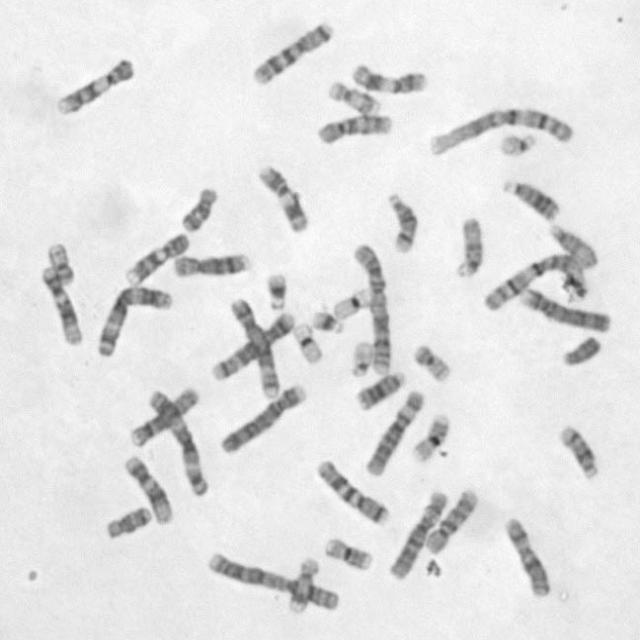A1: (426, 103, 574, 157), (479, 249, 592, 314)
A2: (203, 549, 343, 612), (348, 237, 394, 376)
A3: (144, 384, 210, 497), (92, 280, 175, 358)
B4: (216, 379, 309, 455), (518, 282, 614, 335)
B5: (208, 307, 298, 382), (225, 294, 282, 399)
C10: (423, 484, 481, 555), (312, 109, 394, 148)
C11: (253, 159, 312, 234), (348, 60, 428, 96)
C12: (119, 450, 175, 526), (36, 262, 84, 346)
C6: (362, 385, 426, 477), (386, 488, 448, 580)
C7: (249, 18, 335, 86), (312, 456, 391, 527)
C8: (126, 383, 200, 448), (171, 248, 250, 278)
C9: (52, 52, 136, 116), (122, 228, 192, 286)
D13: (498, 174, 562, 222), (352, 367, 407, 412)
D14: (556, 420, 601, 481), (382, 188, 420, 254)
D15: (546, 219, 600, 271), (450, 212, 486, 280)
E16: (409, 410, 451, 463), (321, 533, 374, 572)
E17: (324, 76, 384, 117), (283, 553, 321, 614)
E18: (176, 183, 219, 233), (102, 502, 152, 540)
F19: (329, 282, 374, 322), (290, 318, 324, 366)
F20: (408, 339, 454, 384), (44, 238, 76, 286)
G21: (308, 305, 346, 335), (262, 270, 289, 312)
G22: (495, 128, 538, 158), (347, 336, 374, 378)
X: (500, 513, 552, 599)
Y: (558, 332, 603, 368)
